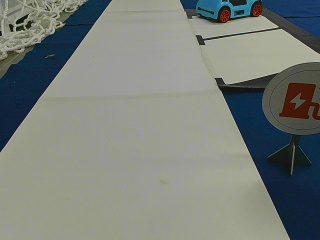battery: (263, 60, 319, 136)
car: (197, 1, 262, 21)
